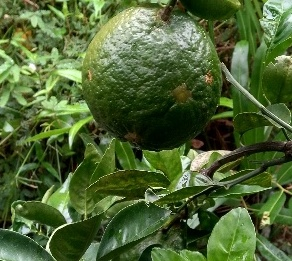Cam: (81, 6, 222, 149)
